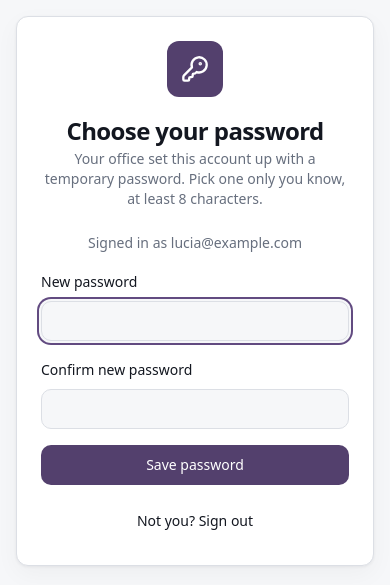
Test: ChoosePassword page › saves the new password and clears the flag in the same request
Expected: the text "Choose your password" is shown, [66,114,324,147]
Type "longenough1" into the password field labelled "New password" at x=195, y=321, box [41,301,349,341]
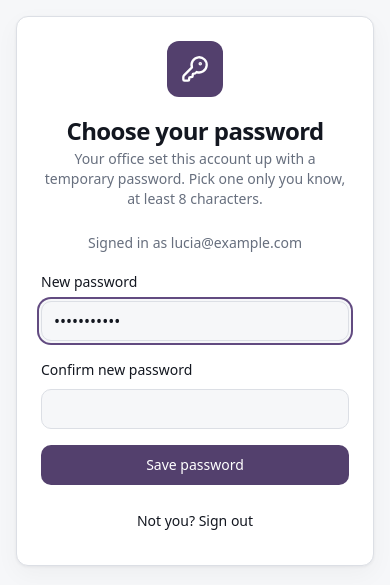
Type "longenough1" into the password field labelled "Confirm new password" at x=195, y=409, box [41,389,349,429]
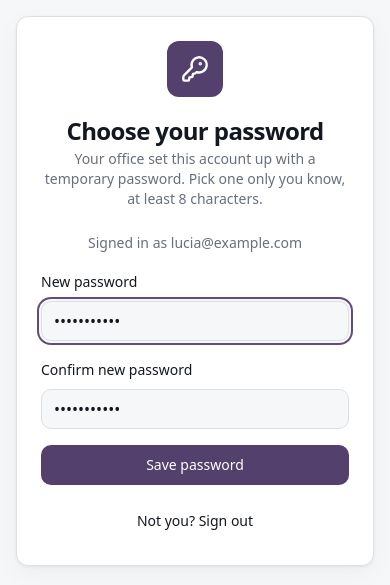
Click the button "Save password" at x=195, y=465, box [41,445,349,485]
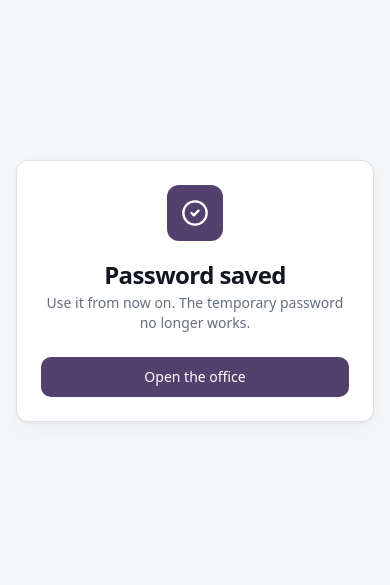
Now the text "Password saved" is shown, box [104,258,286,291]
